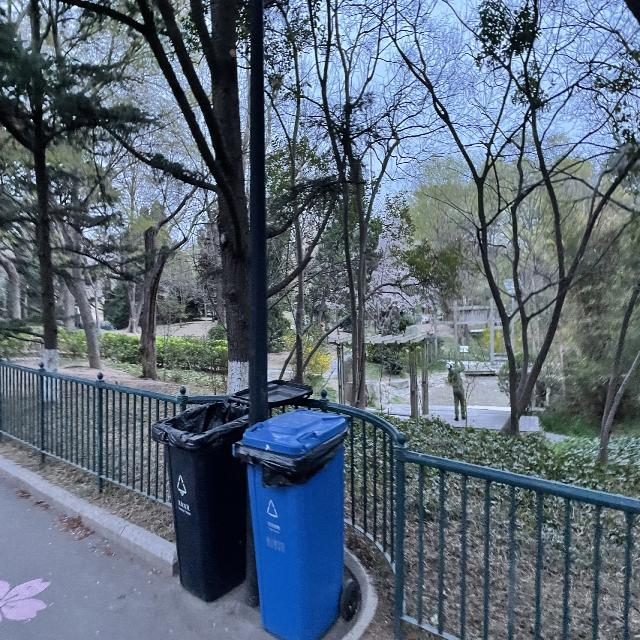garbage_bin: (230, 407, 346, 639), (149, 398, 249, 603)
